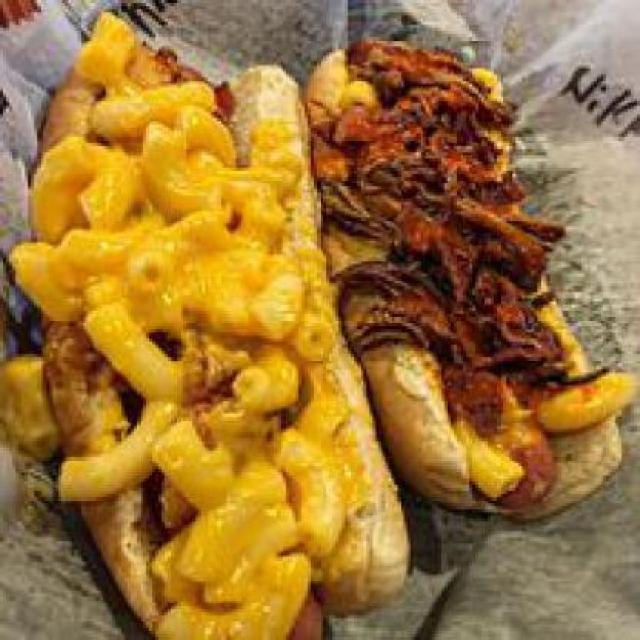hot dog: (444, 391, 568, 507), (271, 572, 332, 638), (162, 53, 229, 105)
macaroni and cheese: (49, 32, 323, 630)
